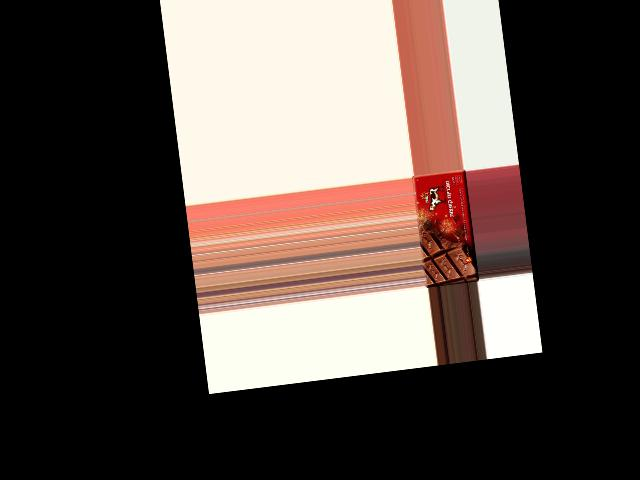chocolate: (412, 168, 479, 287)
